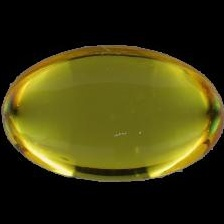57664-133: (0, 0, 224, 224)
